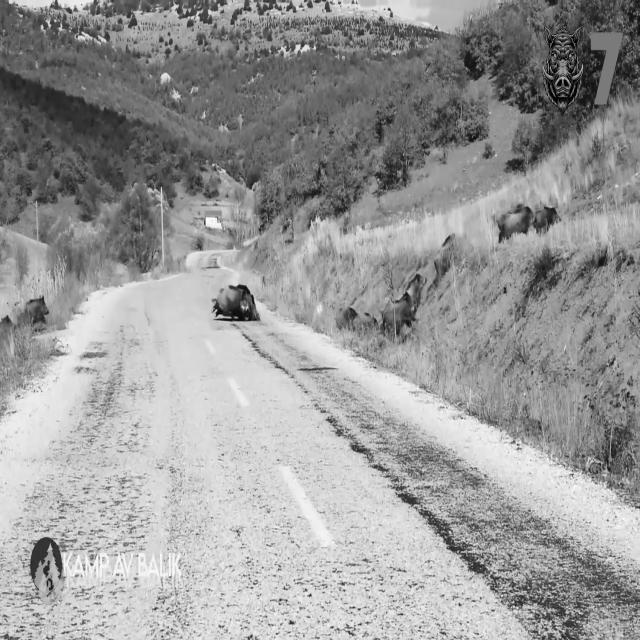boar: (382, 273, 424, 334), (498, 204, 561, 241), (212, 284, 259, 320), (434, 233, 456, 287), (336, 306, 378, 329), (24, 295, 48, 322), (336, 306, 358, 329), (0, 315, 12, 327)
